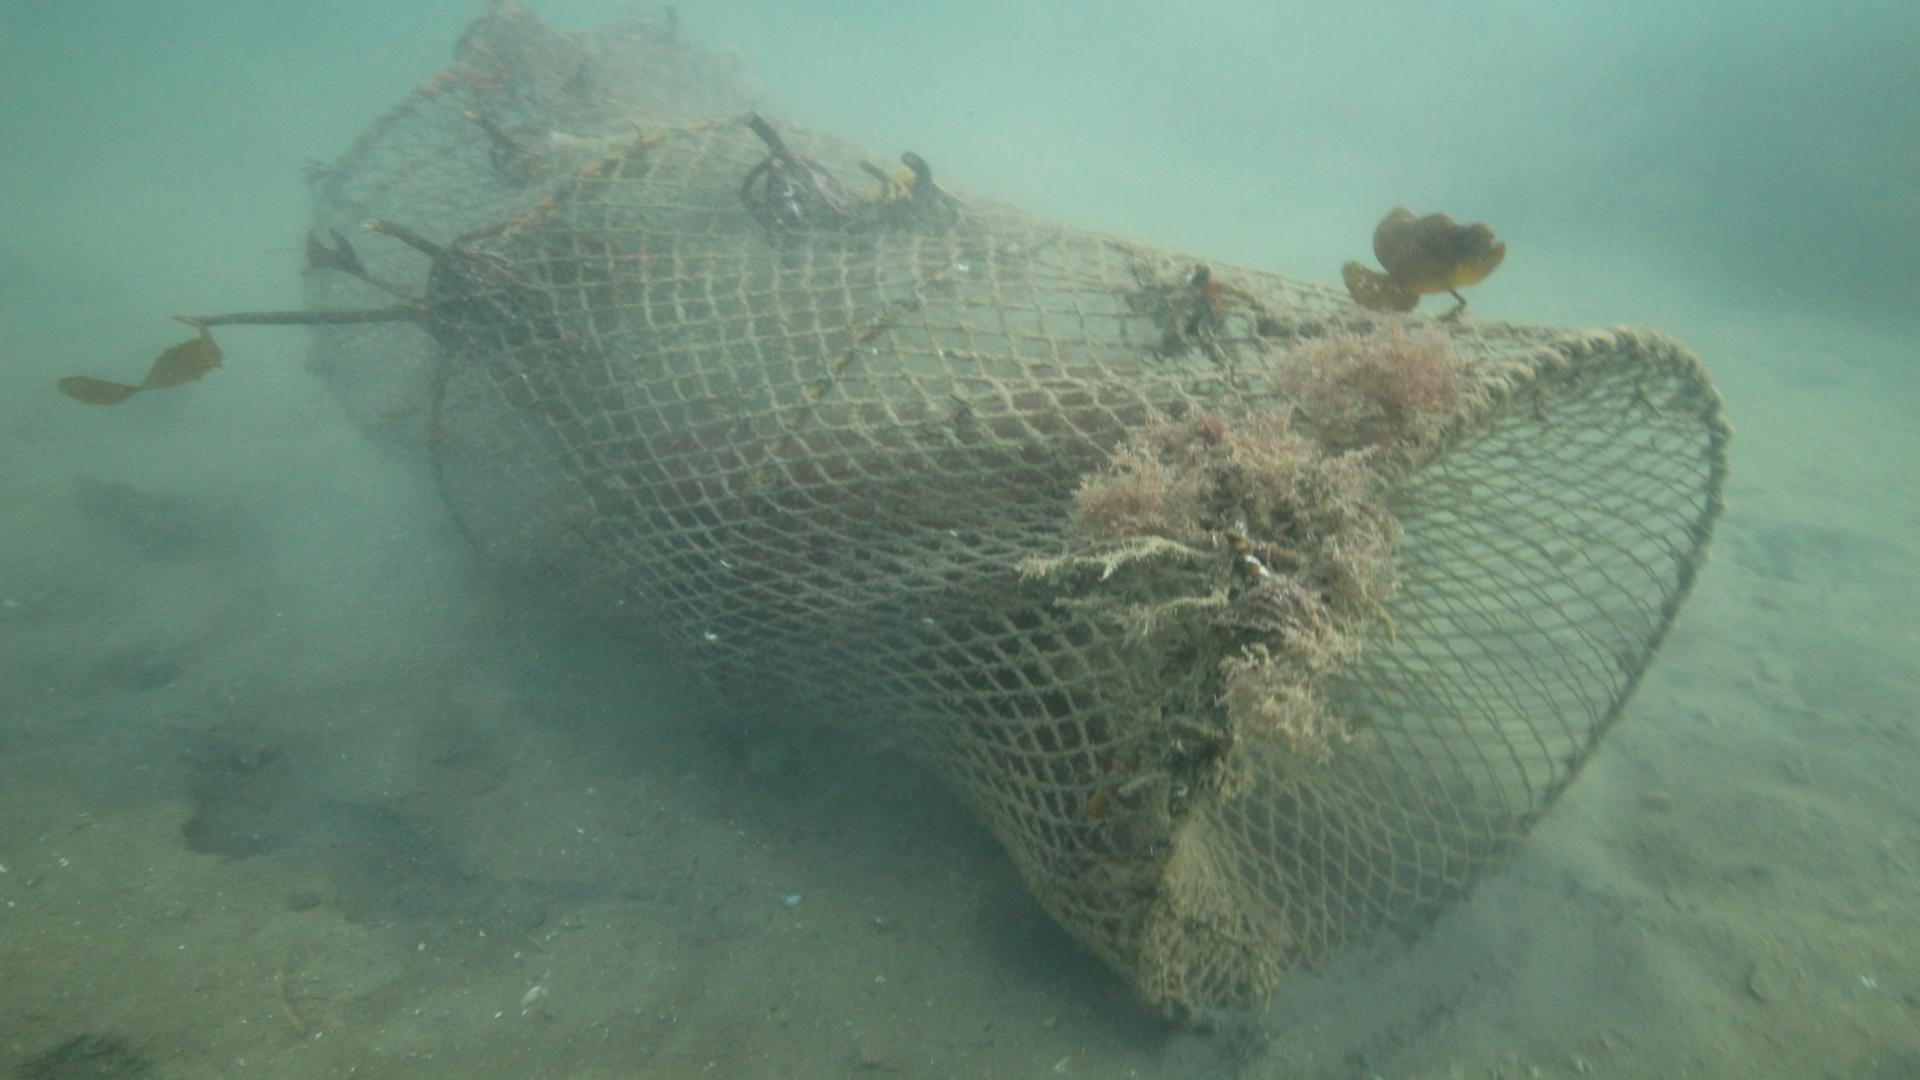spring fish trap: (298, 0, 1731, 1026)
